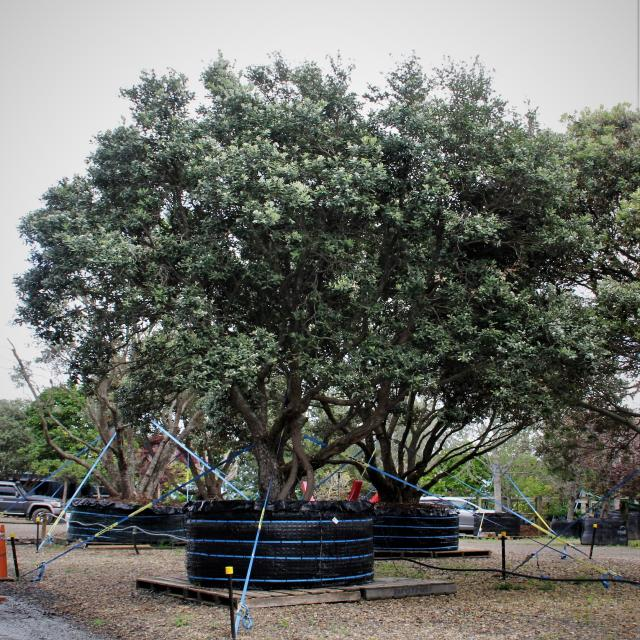Pohutukawa: (10, 58, 545, 503), (325, 70, 637, 505)
